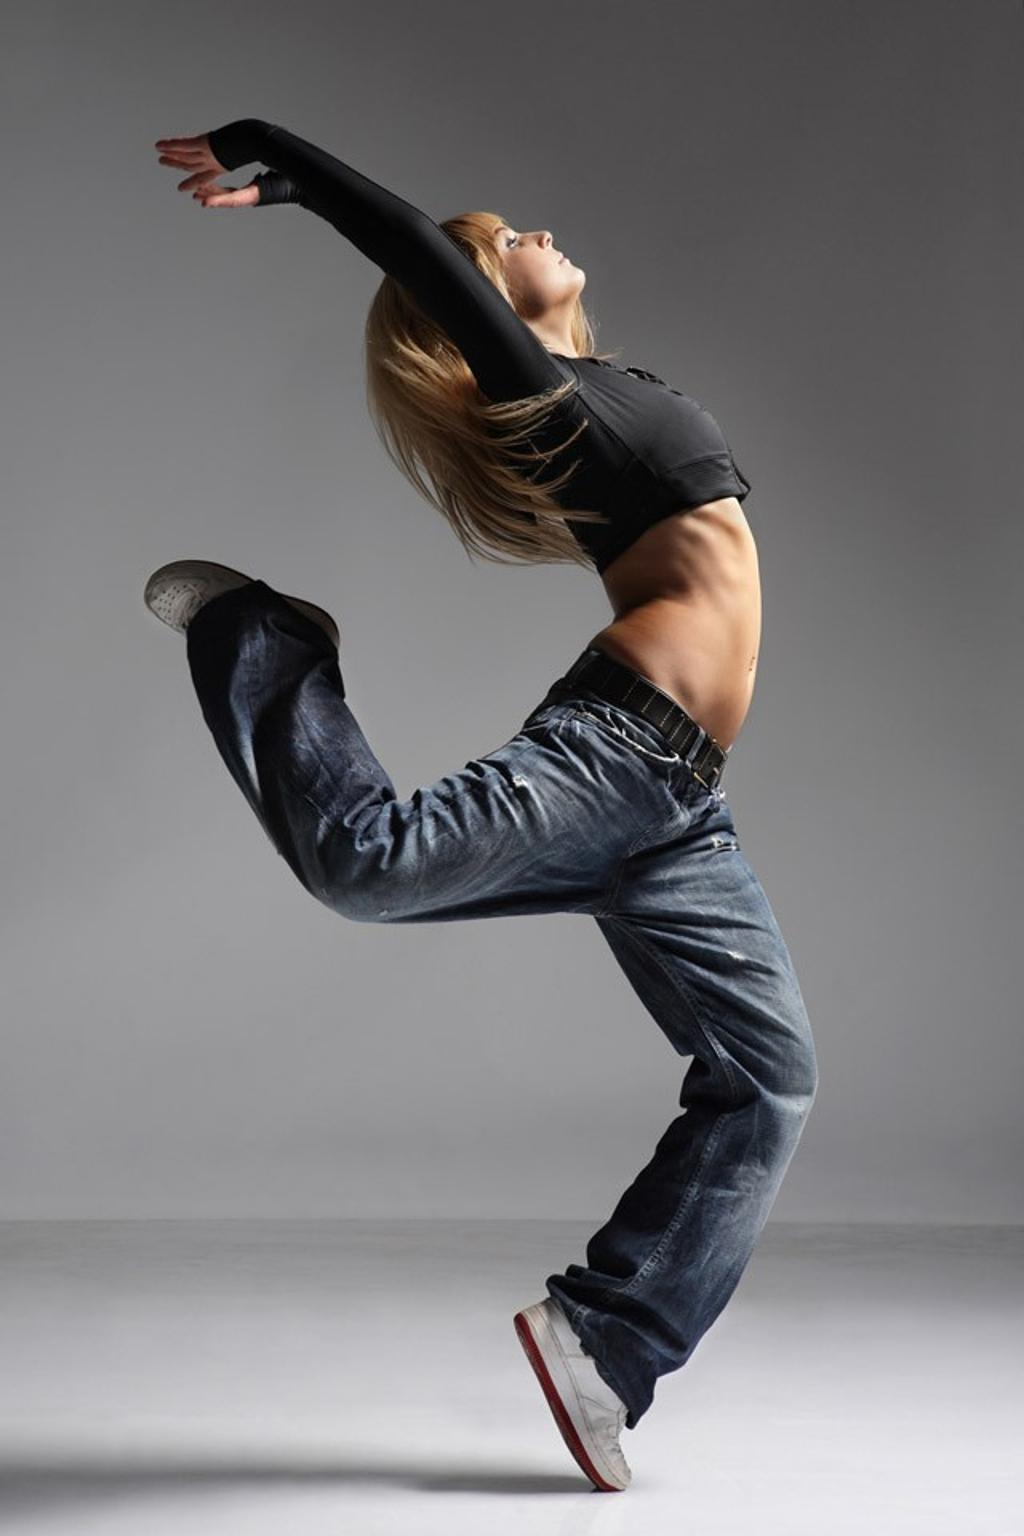face: (463, 220, 592, 304)
